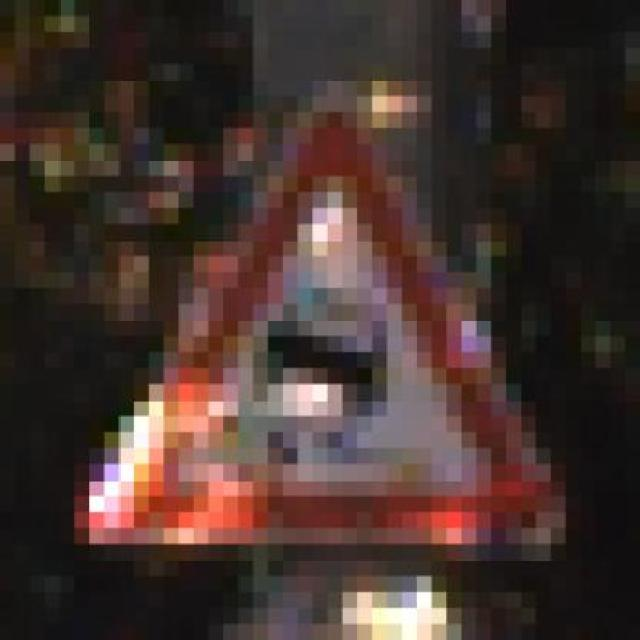Slippery Road Ahead: (68, 88, 589, 552)
